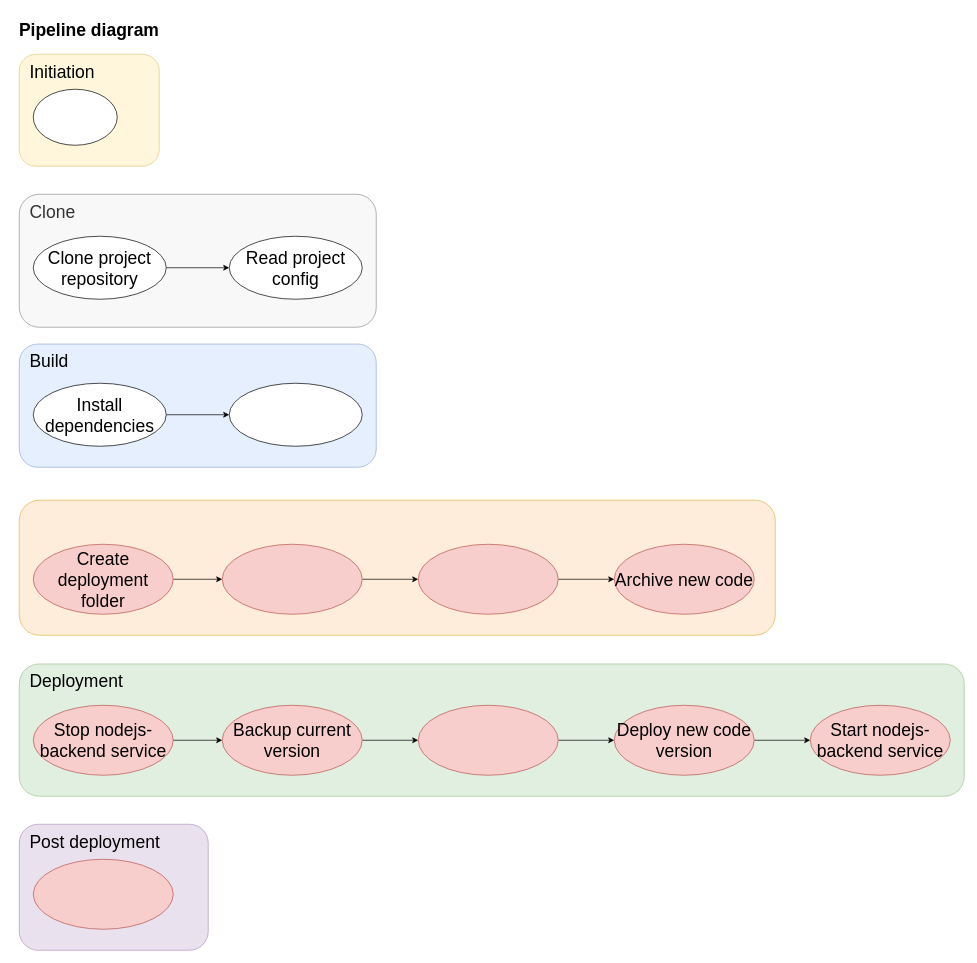
The diagram is 977 pixels wide and 963 high, and some of its shapes have lost their labels. Each missing label, with the box of its shape:
Check app health: (33, 859, 173, 929)
Delete current version: (418, 705, 558, 775)
Deployment preparation: (19, 499, 775, 635)
Init: (33, 89, 117, 145)
Install production dependencies: (418, 544, 558, 614)
Prepare files for deployment: (222, 544, 362, 614)
Run unit tests: (229, 383, 362, 446)
